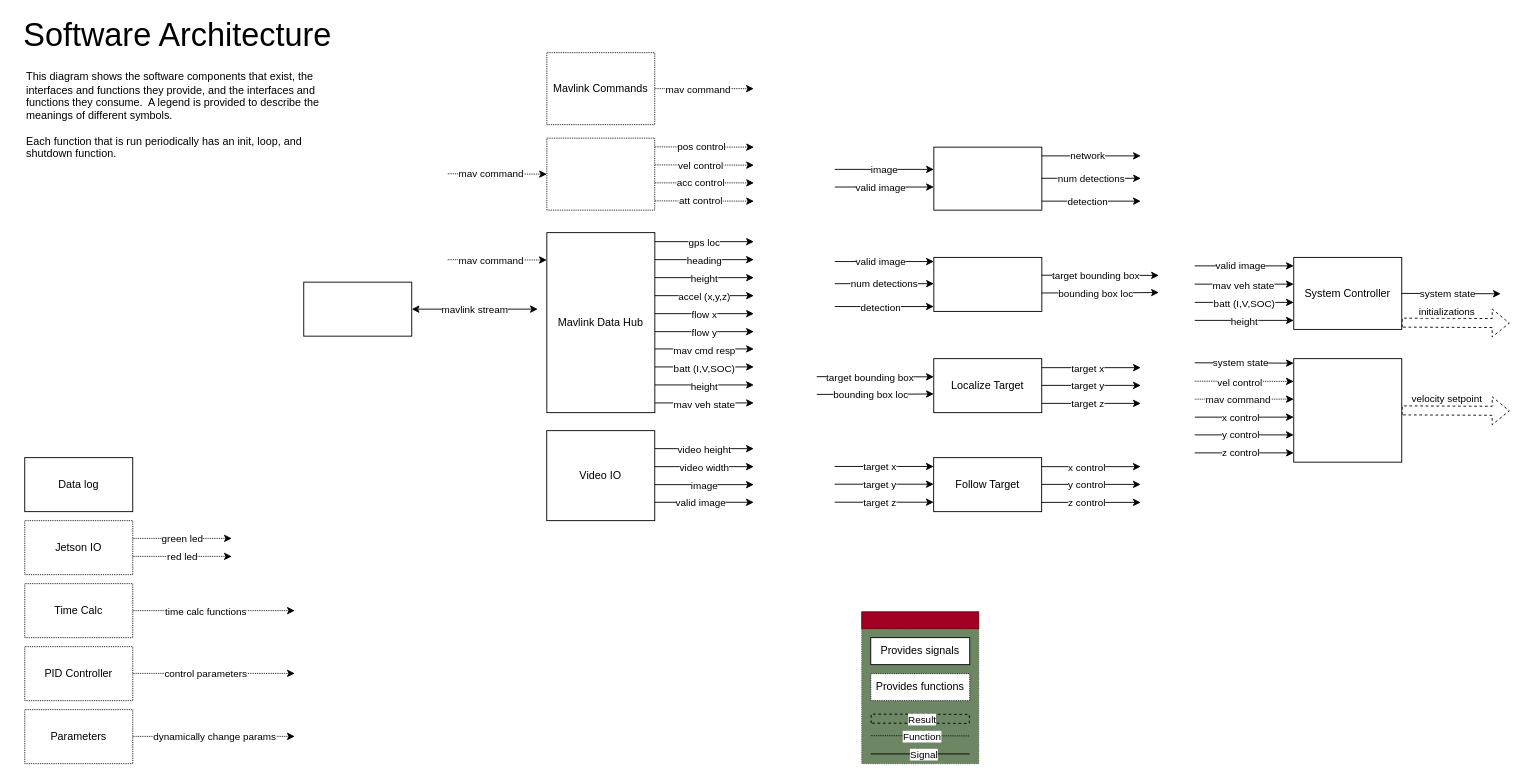
This 1525x779 diagram has some shape labels left out. Each missing label, with the centre of its shape:
ArduPilot: the point at 357,308
Legend: the point at 920,620
Mavlink Motion: the point at 600,173
Object Detection: the point at 987,178
Track Target: the point at 987,283
Vehicle Controller: the point at 1347,410
